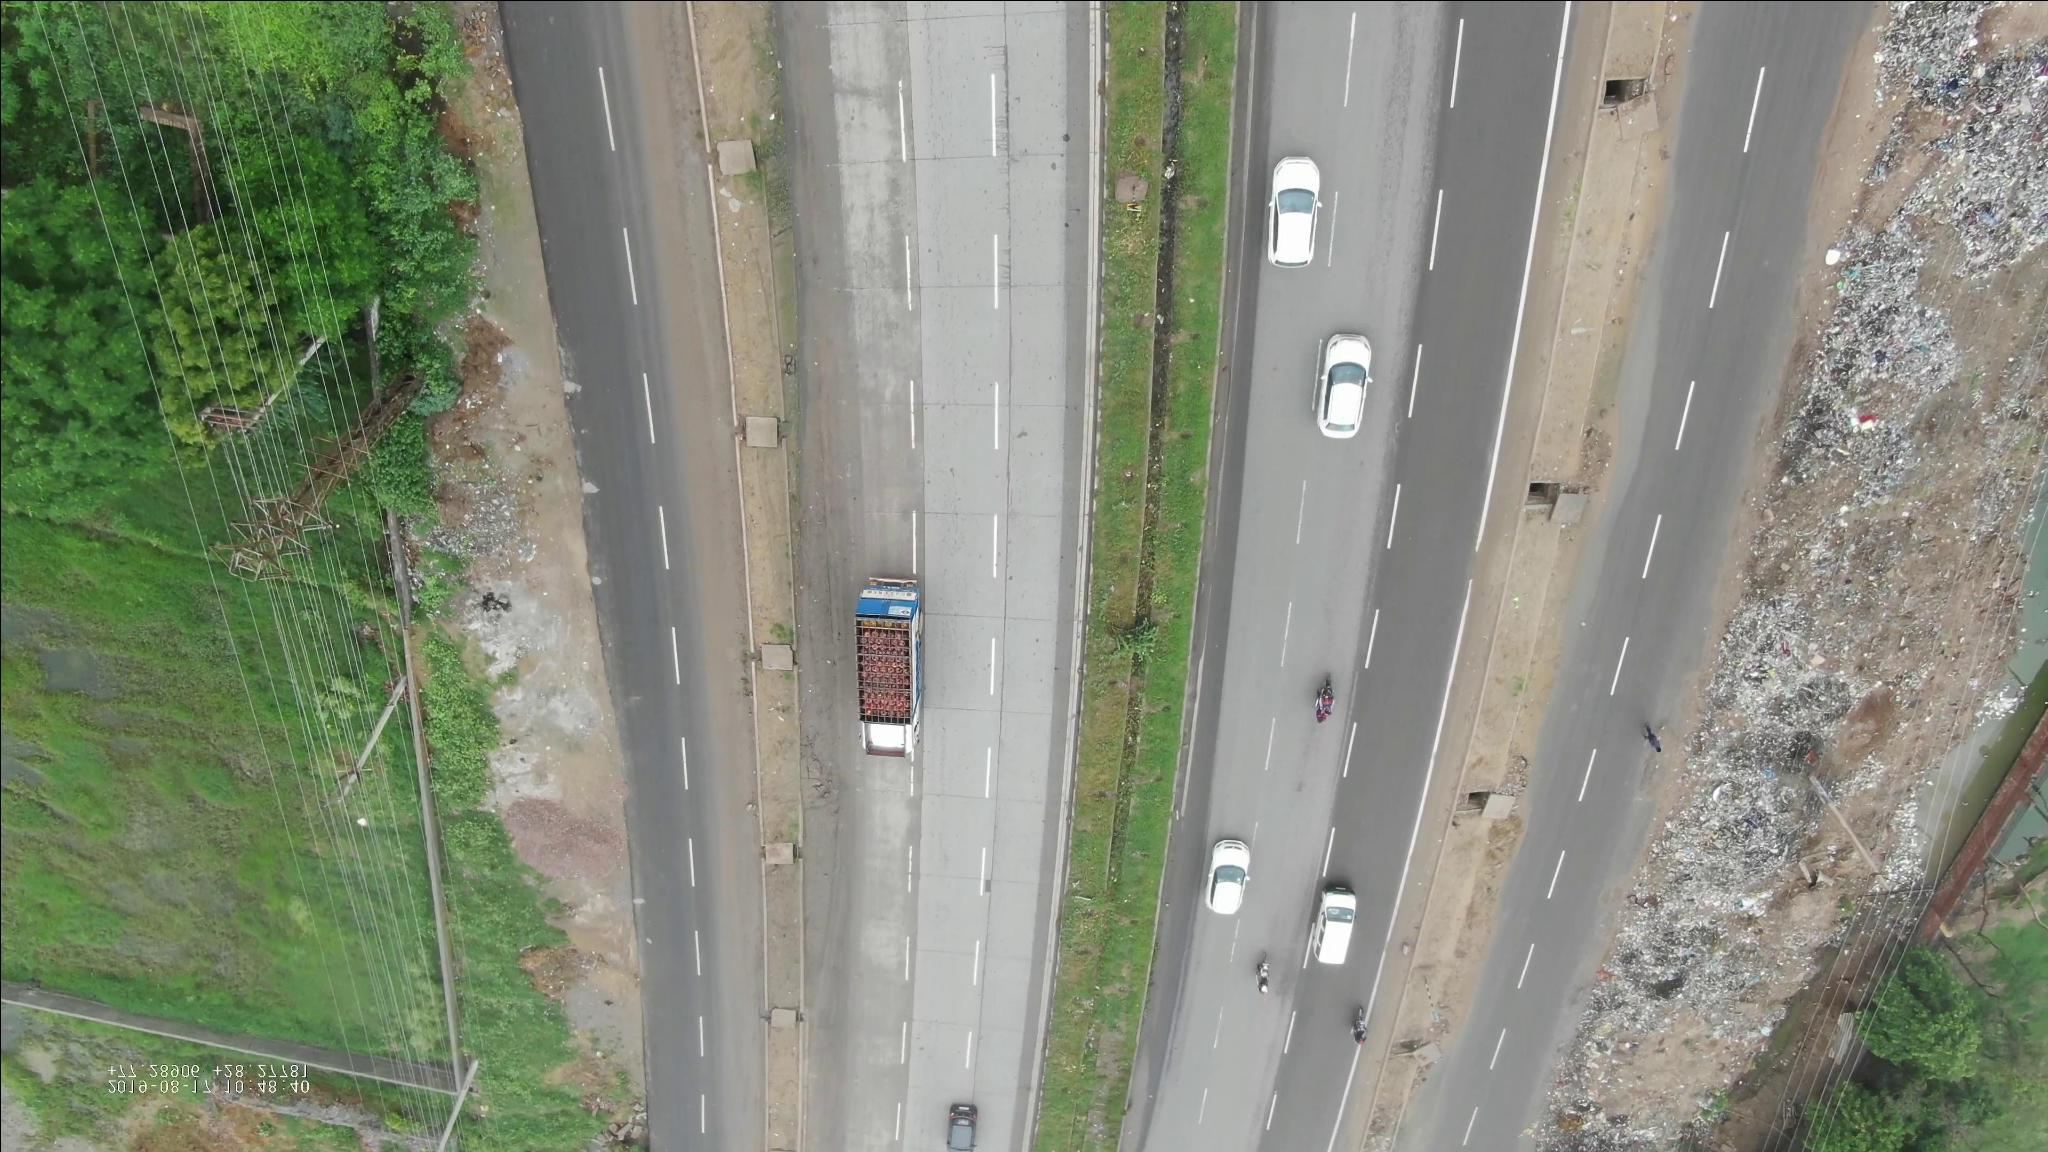Road_side_garbage: (1768, 283, 1990, 498), (1620, 800, 1815, 1038), (1868, 10, 2044, 257), (1701, 594, 1896, 761)
